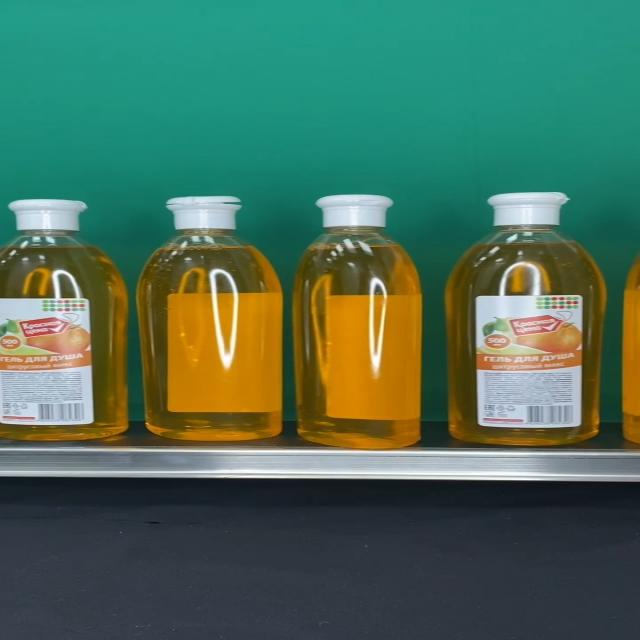Bottle: (446, 192, 607, 444), (136, 196, 284, 442), (294, 195, 424, 449), (0, 199, 128, 439)
Cap: (487, 192, 569, 228), (166, 196, 243, 230), (315, 195, 393, 228), (7, 200, 87, 230)
